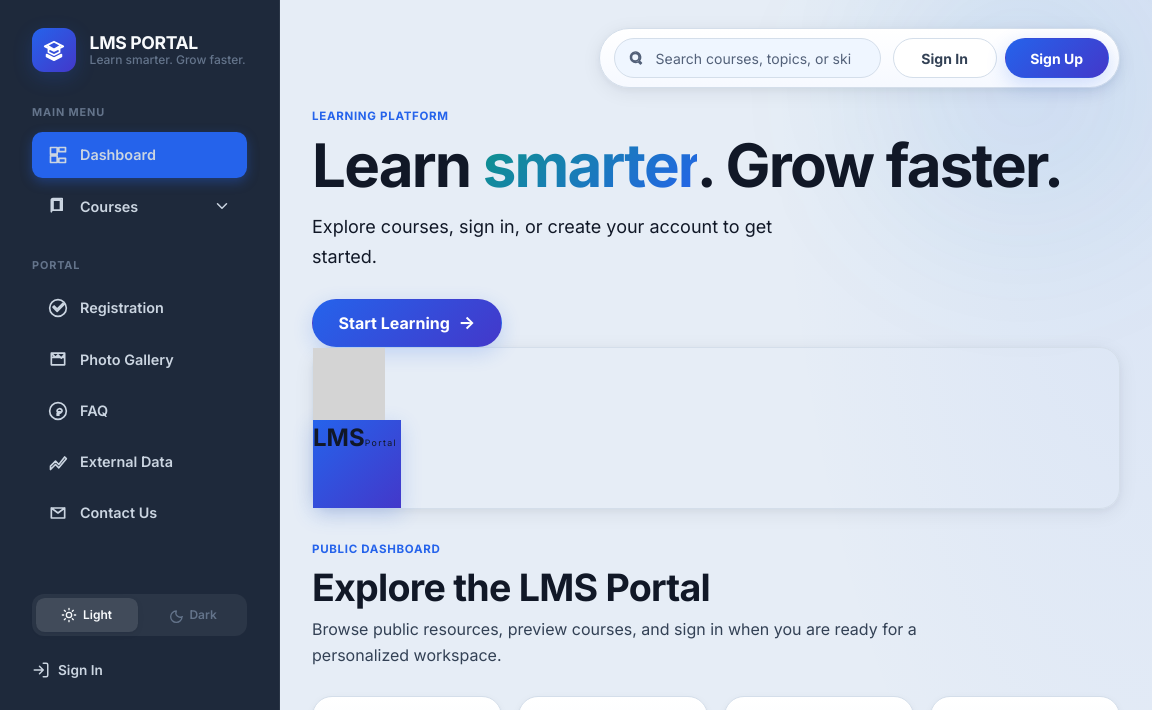
courses submenu toggles expand and collapse
The image size is (1152, 710).
Click the button "Courses" at (140, 206), box 32,184 -> 247,229
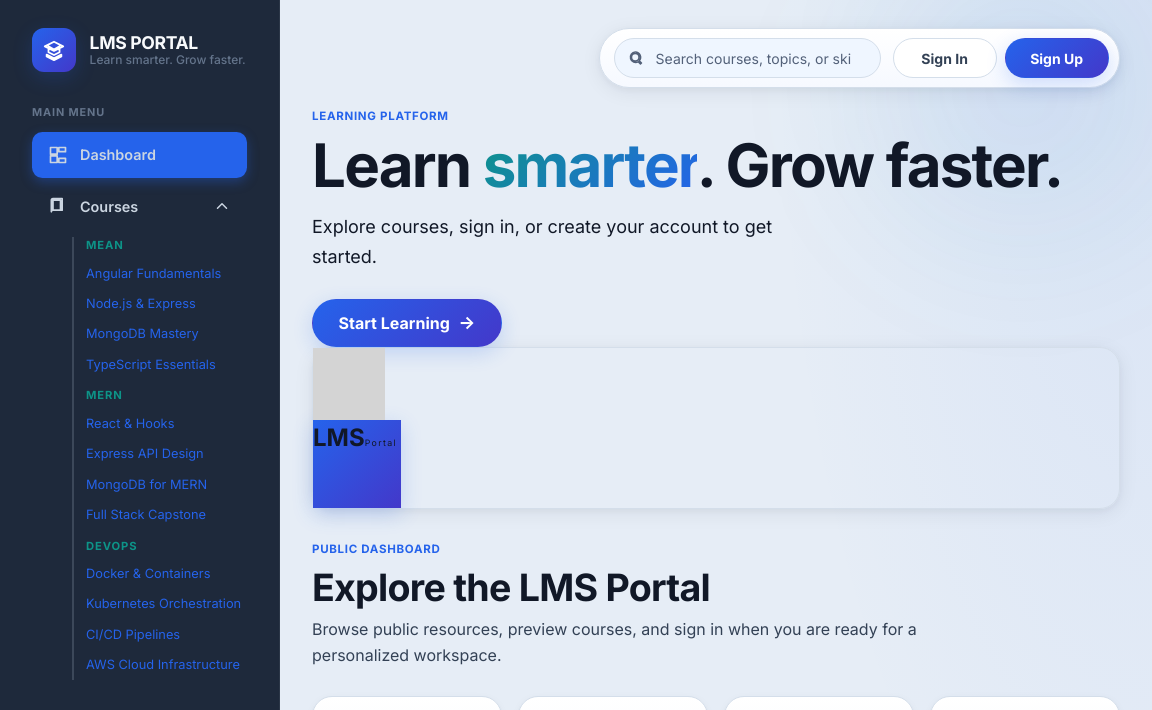
Expected: the button "Courses" is expanded
Expected: the text "MEAN" is shown, 86,238 -> 124,252
Click the button "Courses" at (140, 206), box 32,184 -> 247,229
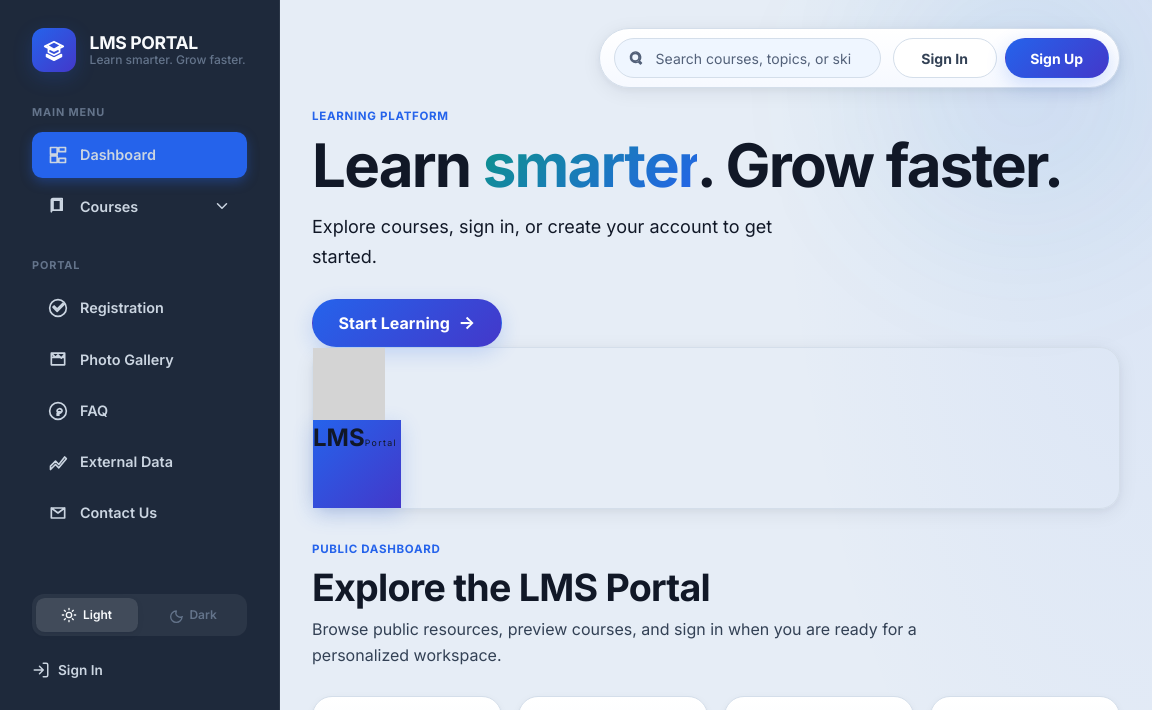
Expected: the button "Courses" is collapsed, 32,184 -> 247,229
